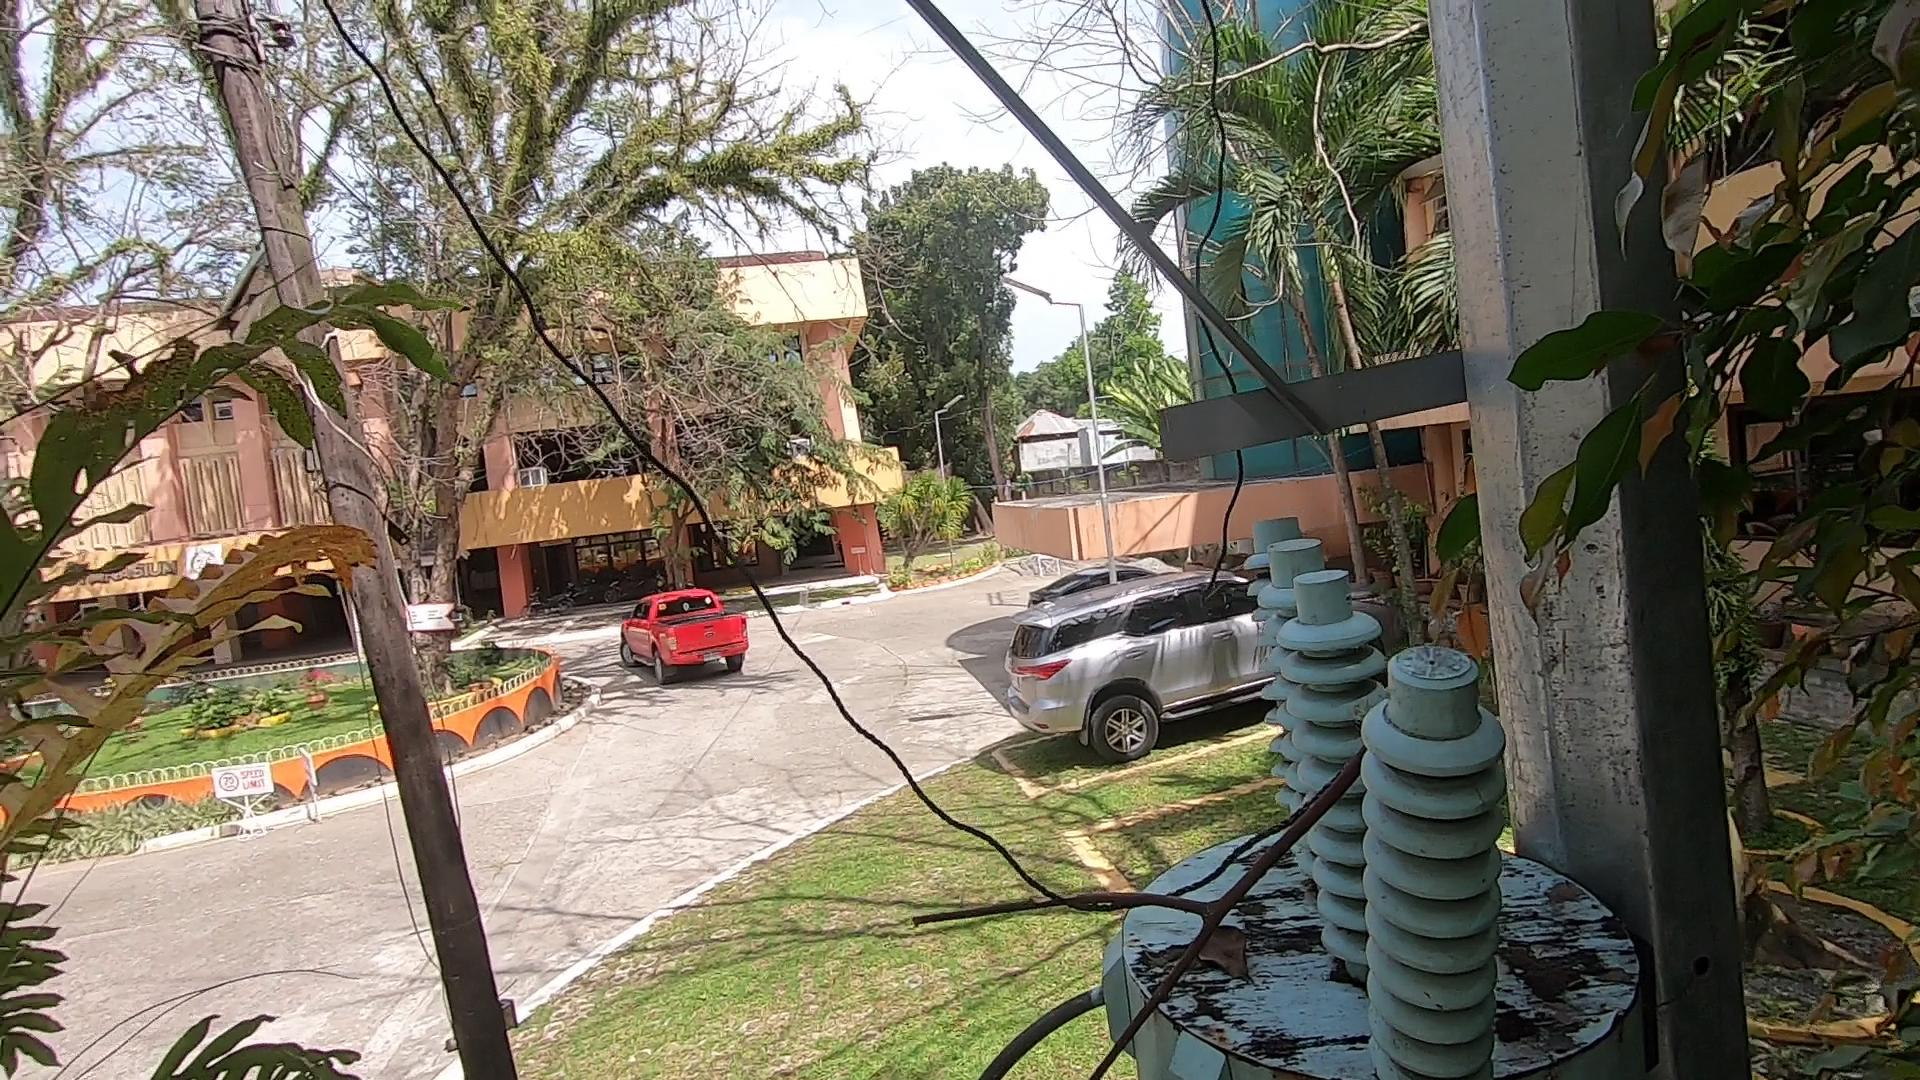leaf: (1199, 916, 1288, 994)
tree branch: (911, 760, 1422, 1080)
